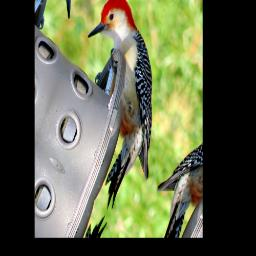Woodpecker: (45, 0, 192, 230)
